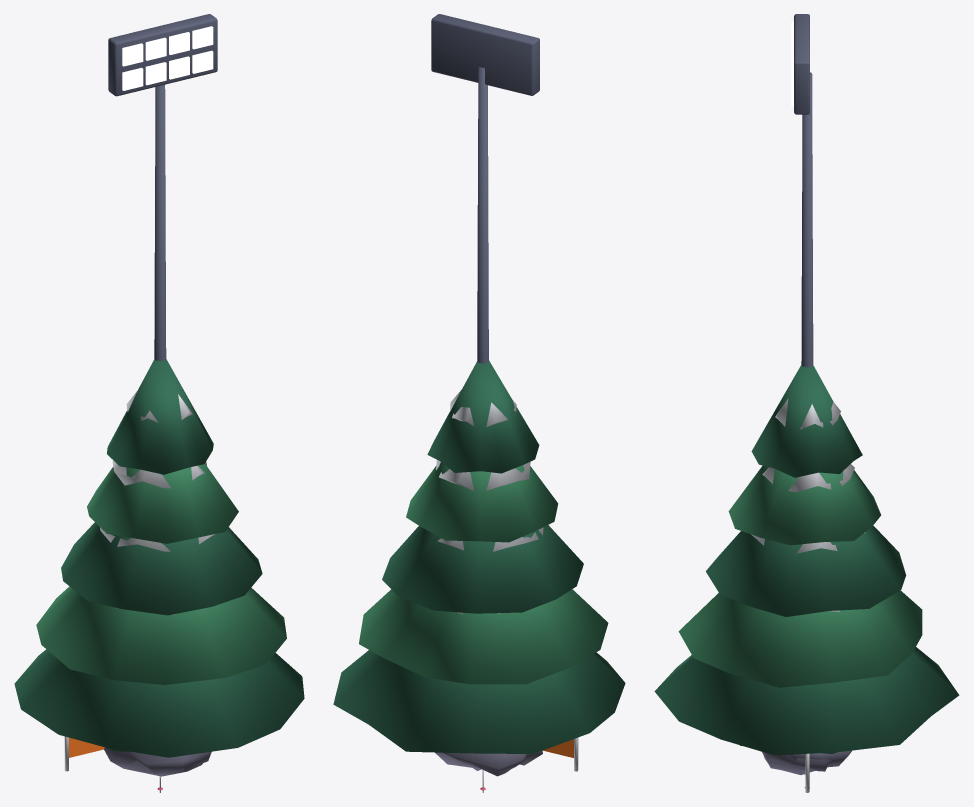
File: snow-props.glb
3 renders of one model, left to right at view 1: azimuth 30°, elevation 25°; view 2: azimuth 150°, elevation 25°; view 3: azimuth 270°, elevation 25°, orthographic.
Parts seen in each view (by area): view 1: Pine2, Floodlight, Rock1, Fence, Rock2; view 2: Pine2, Floodlight, Rock1; view 3: Pine2, Floodlight, Rock1, Rock2.
Part boxes in pixels (x1,y1,x2,y2): Pine2: (14, 359, 304, 757); Floodlight: (108, 14, 217, 361); Rock1: (126, 751, 211, 773); Fence: (64, 736, 104, 771); Rock2: (104, 747, 202, 776); Pine2: (333, 360, 625, 753); Floodlight: (431, 14, 539, 363); Rock1: (435, 752, 526, 772); Pine2: (654, 365, 959, 755); Floodlight: (791, 14, 813, 367); Rock1: (762, 750, 851, 774); Rock2: (763, 753, 831, 774).
Bounding box in the file's own units: 5.35 × 15.67 × 5.75.
